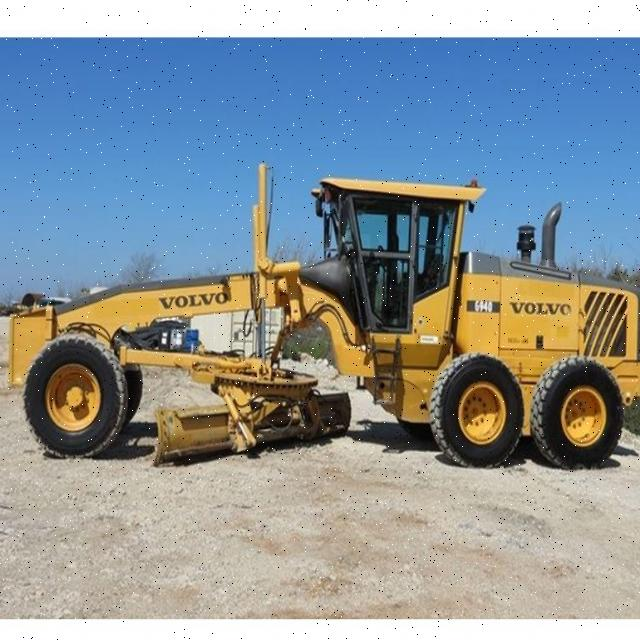Grader: (8, 152, 640, 486)
